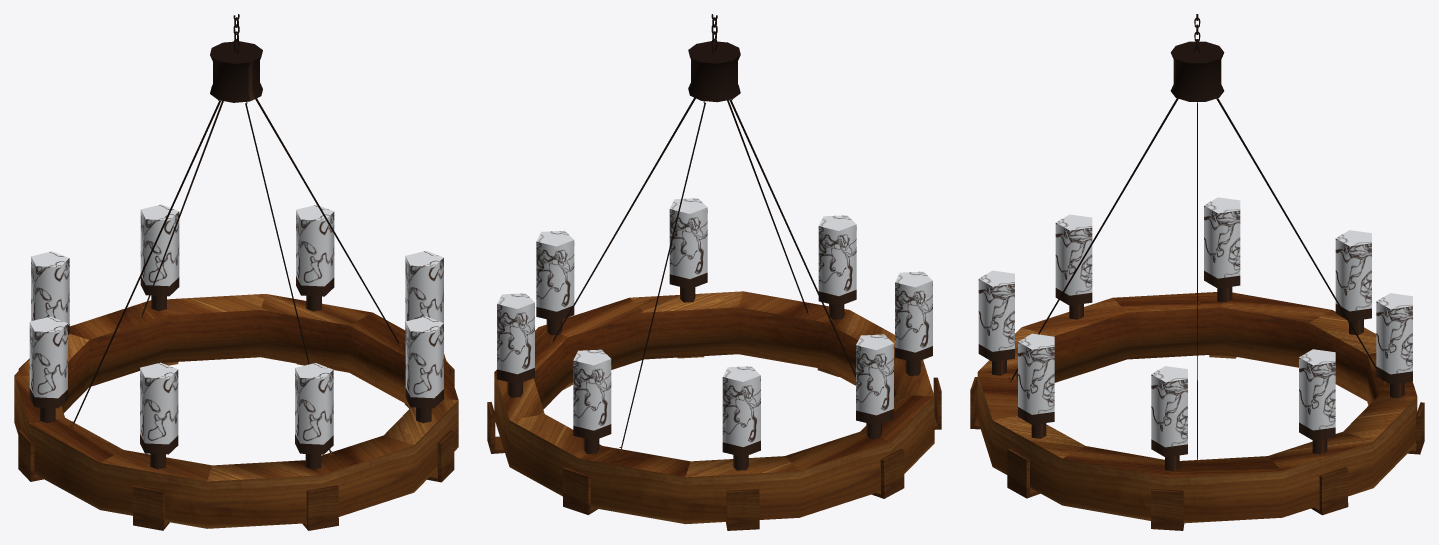
File: aws_Chandelier_01.DAE
The picture shows the model from 3 angles, left to right: view 1: azimuth 30°, elevation 25°; view 2: azimuth 150°, elevation 25°; view 3: azimuth 270°, elevation 25°; orthographic projection.
Parts seen in each view (by area): view 1: aws_Chandelier_01; view 2: aws_Chandelier_01; view 3: aws_Chandelier_01.
Boxes of the visible parts, x1,y1,x2,y2 form: aws_Chandelier_01: (14,14,458,530); aws_Chandelier_01: (487,14,941,530); aws_Chandelier_01: (970,14,1424,530).
Size of what is drawn, in the model's own units: 89.55 by 89.55 by 91.39.
